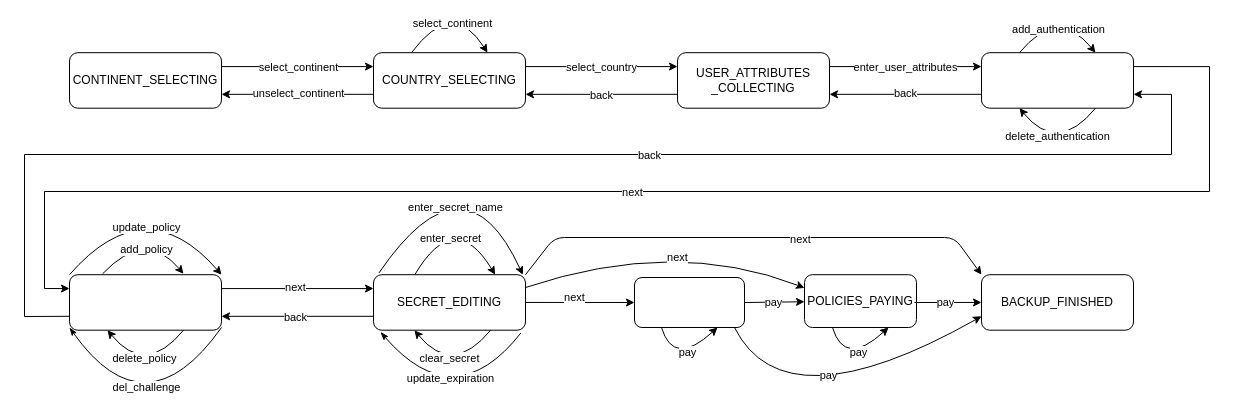
Some shapes in this 1235 by 412 pixel diagram are drawn without their labels. The centre of each missing label's shape, as x and y in pixels:
AUTHENTICATIONS _EDITING: the point at 1057,80
POLICIES_REVIEWING: the point at 145,302
TRUTHS_PAYING: the point at 689,302
